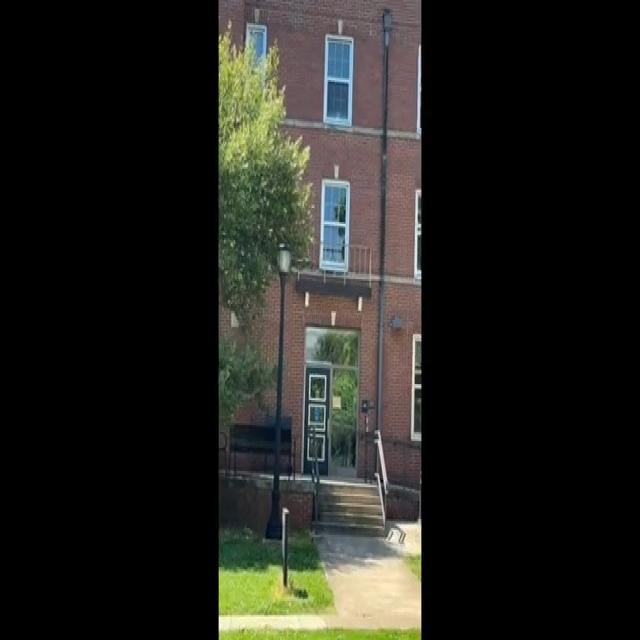drone: (294, 246, 318, 277)
